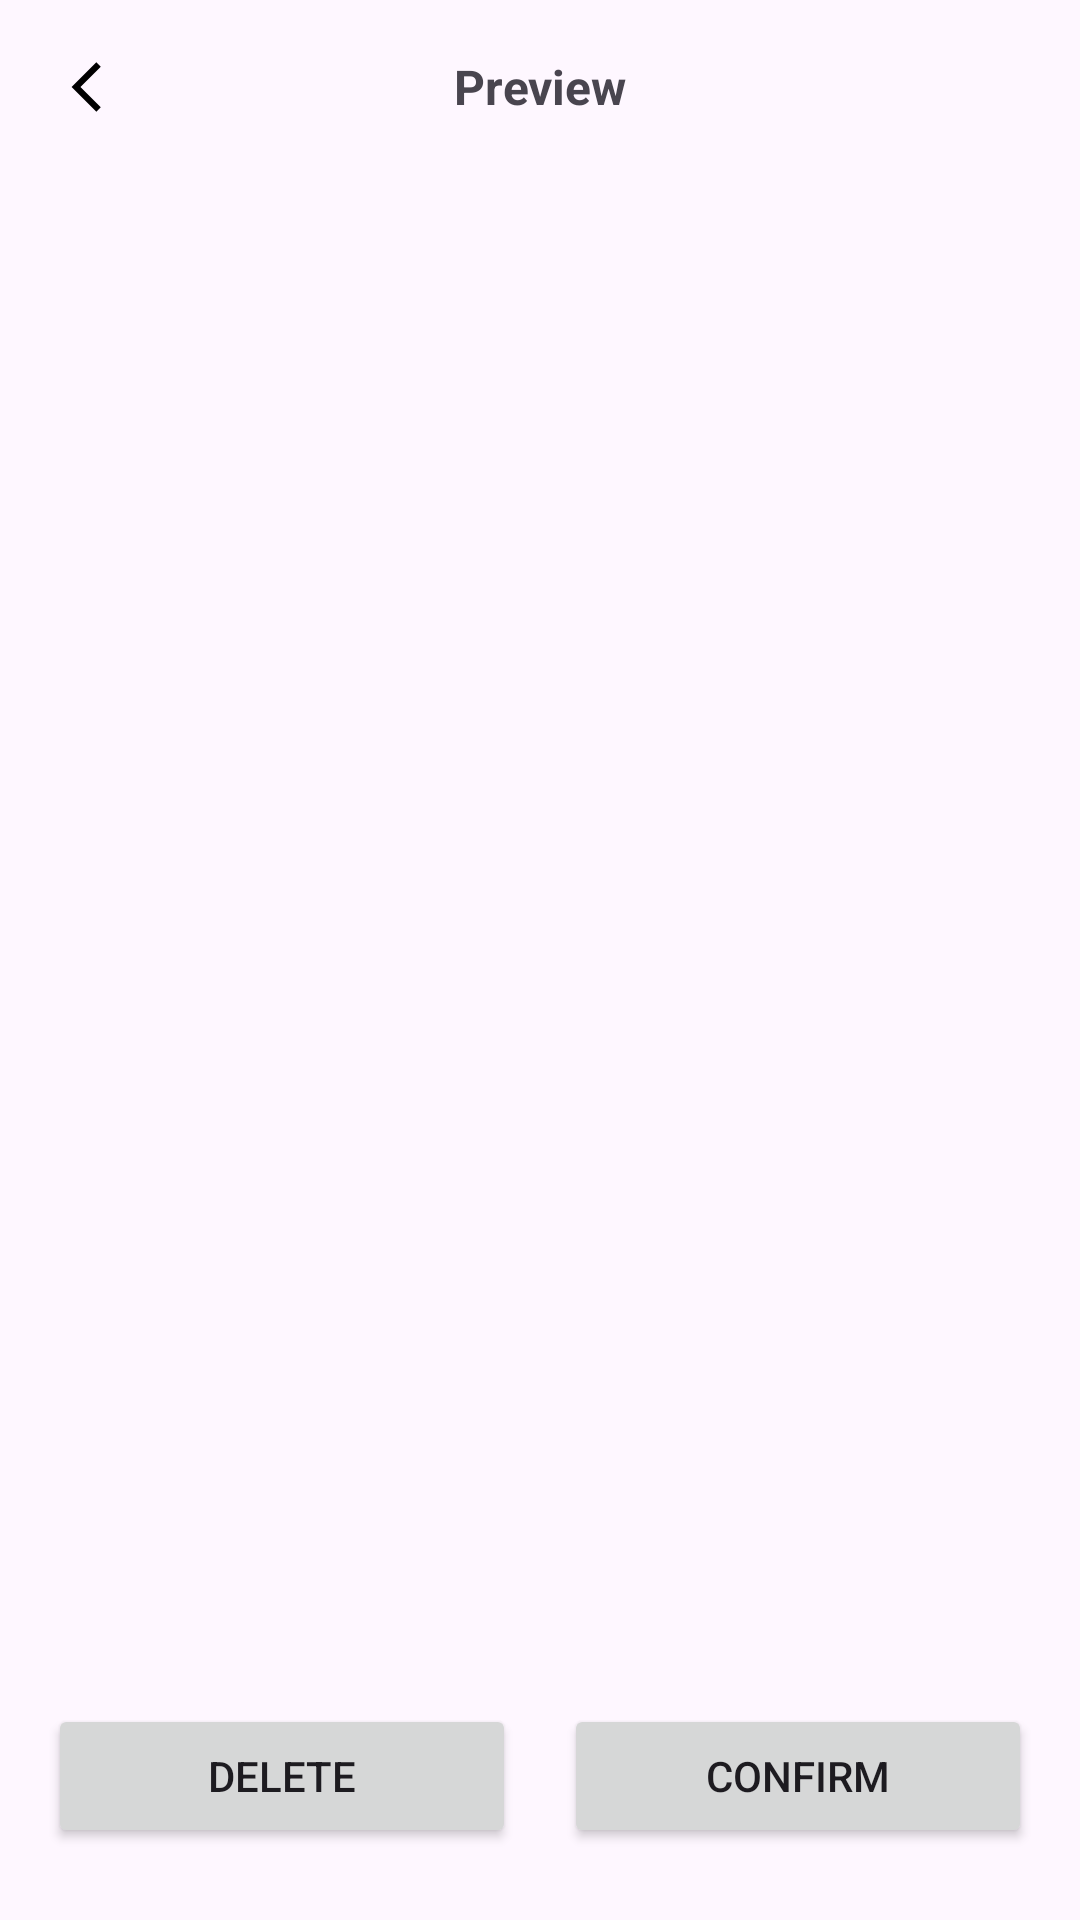

Icon bounding boxes for this 1080*1920 phone screenshot, format [x1=x1, y1=y1, x2=x2, y2=y2]:
back: [x1=72, y1=62, x2=101, y2=112]
